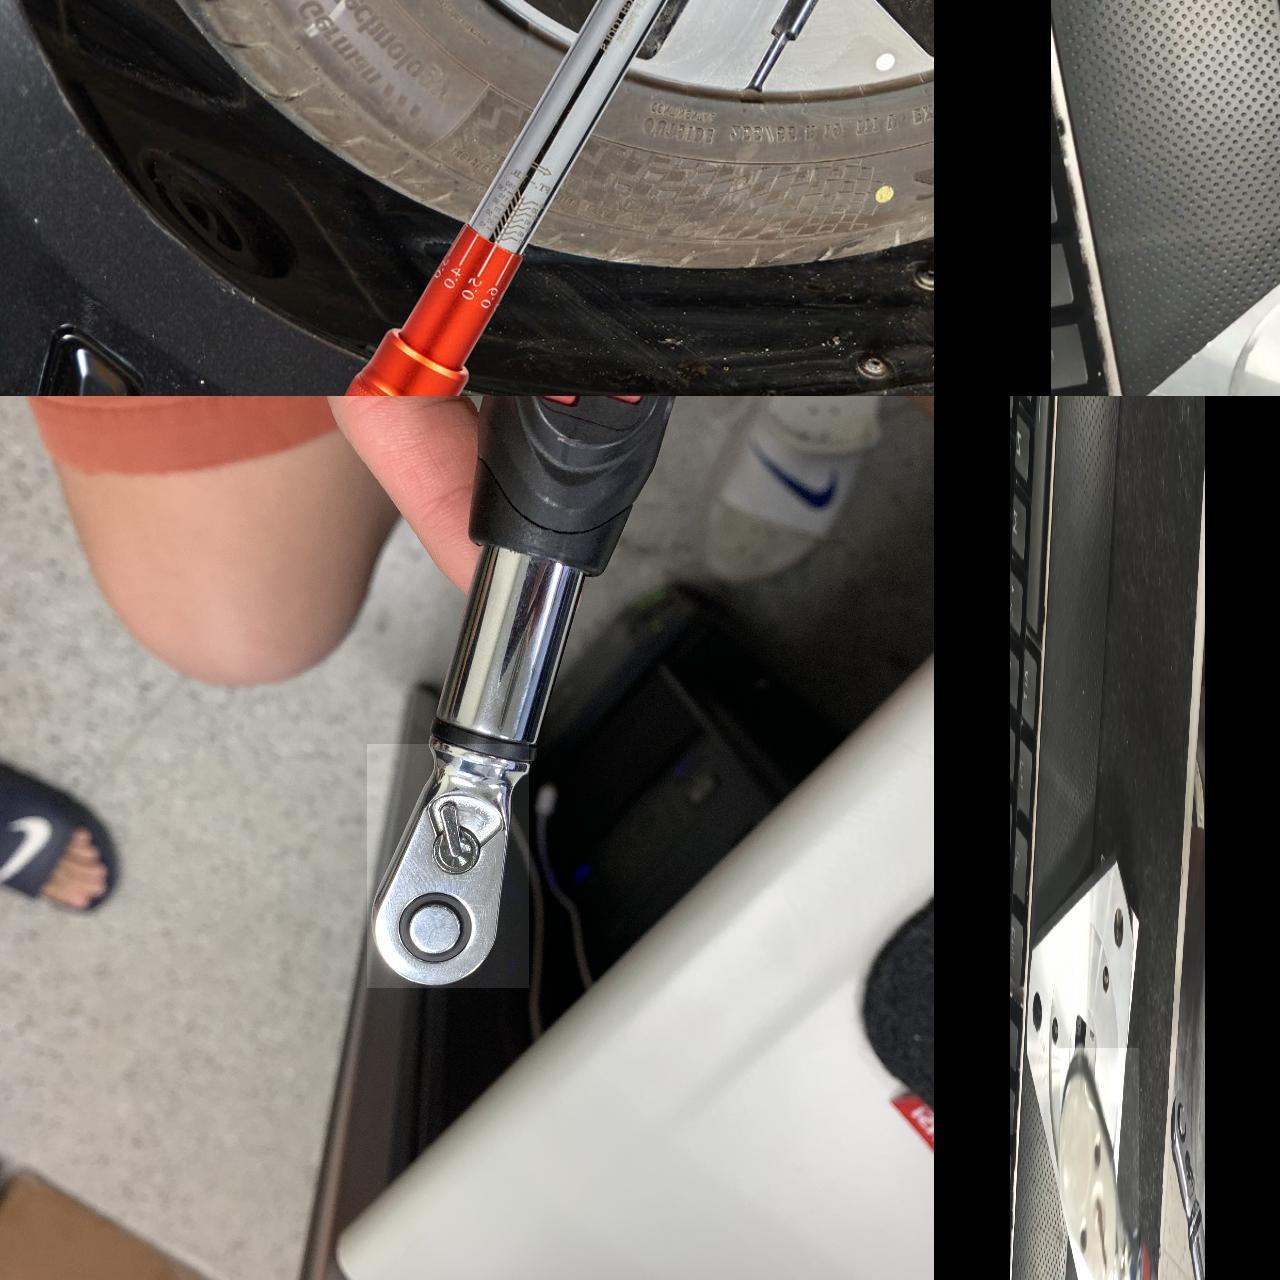Tool: (367, 743, 529, 987), (1058, 1046, 1139, 1280), (1169, 1090, 1200, 1224)
